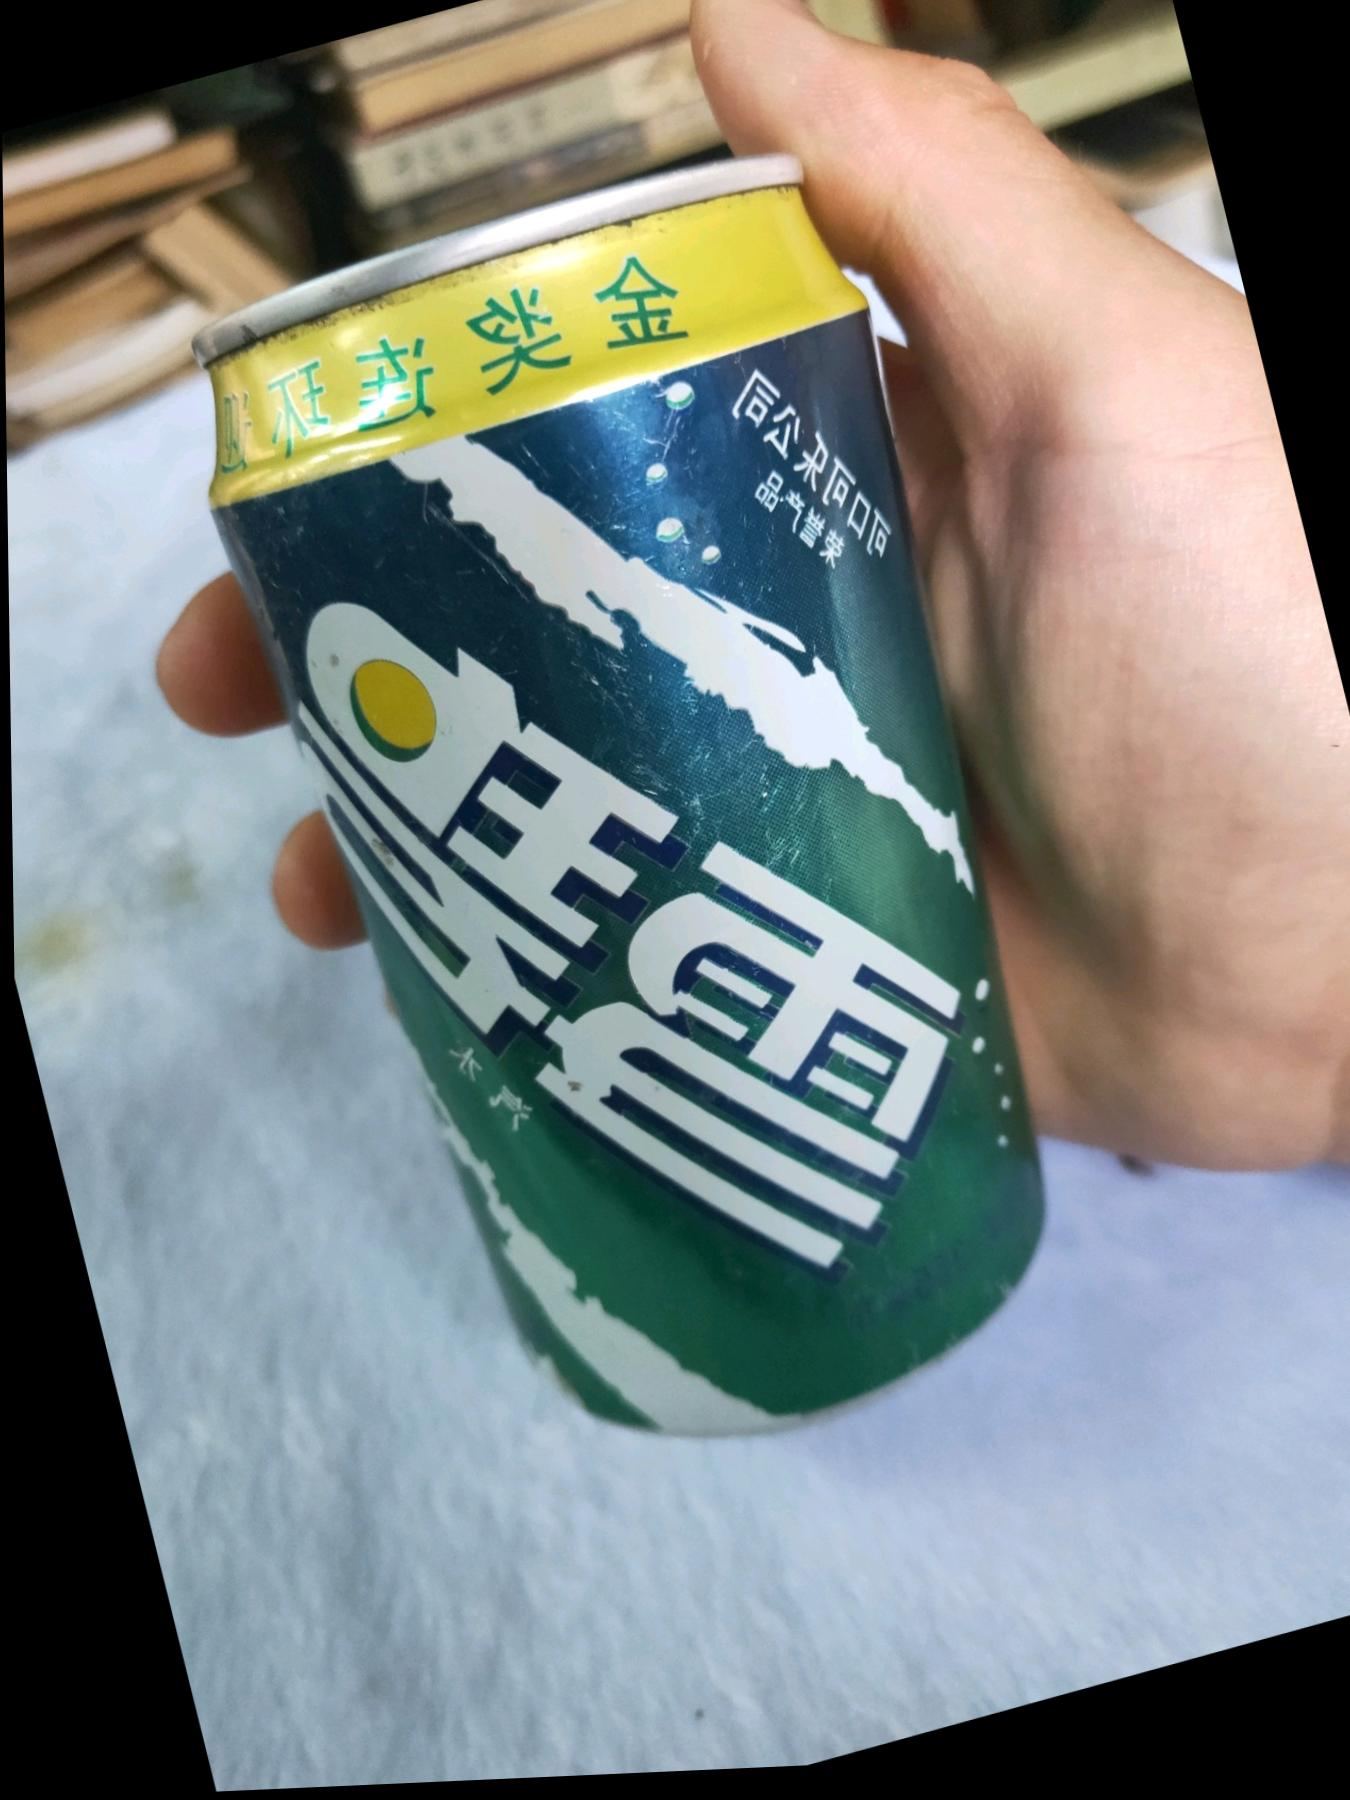metal: (197, 157, 1044, 1433)
